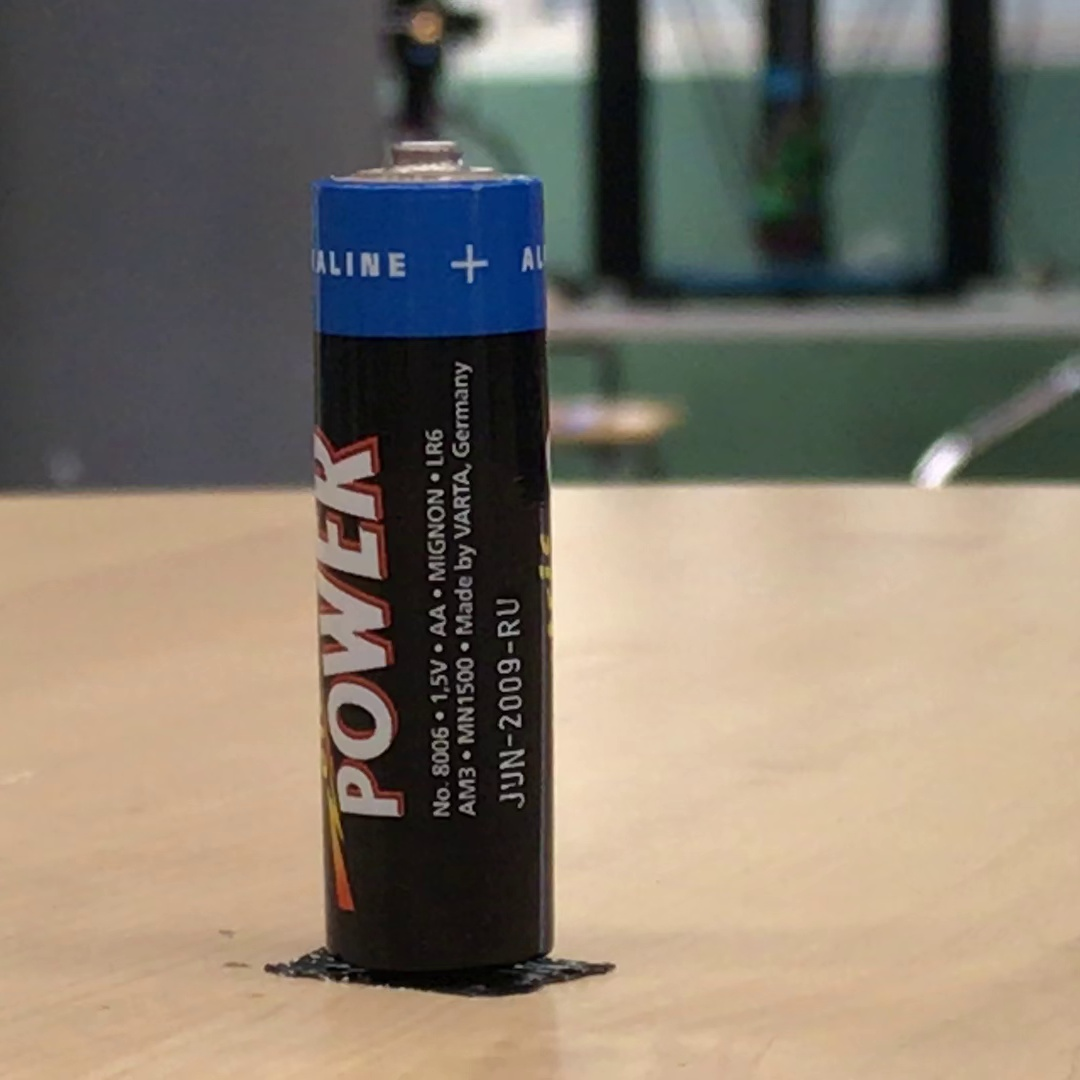keyword: (421, 650, 457, 711), (416, 420, 452, 475)
